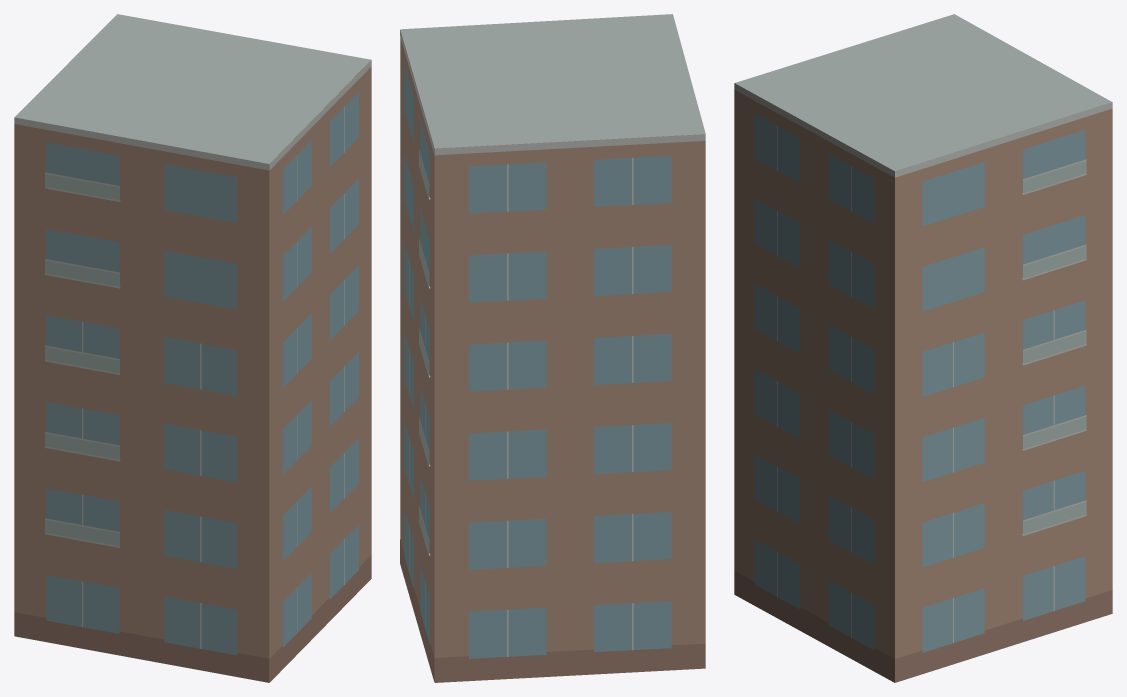
Rendered from survey-upis-32526853.glb.
The picture shows the model from 3 angles, left to right: view 1: azimuth 30°, elevation 25°; view 2: azimuth 150°, elevation 25°; view 3: azimuth 270°, elevation 25°; orthographic projection. The views are drawn at different scales.
Parts seen in each view (by area): view 1: survey-upis-32526853.tmp; view 2: survey-upis-32526853.tmp; view 3: survey-upis-32526853.tmp.
Boxes of the visible parts, x1,y1,x2,y2 form: survey-upis-32526853.tmp: (14,14,371,682); survey-upis-32526853.tmp: (400,14,705,682); survey-upis-32526853.tmp: (734,14,1112,682).
Bounding box in the file's own units: 12.8 × 19.4 × 13.
